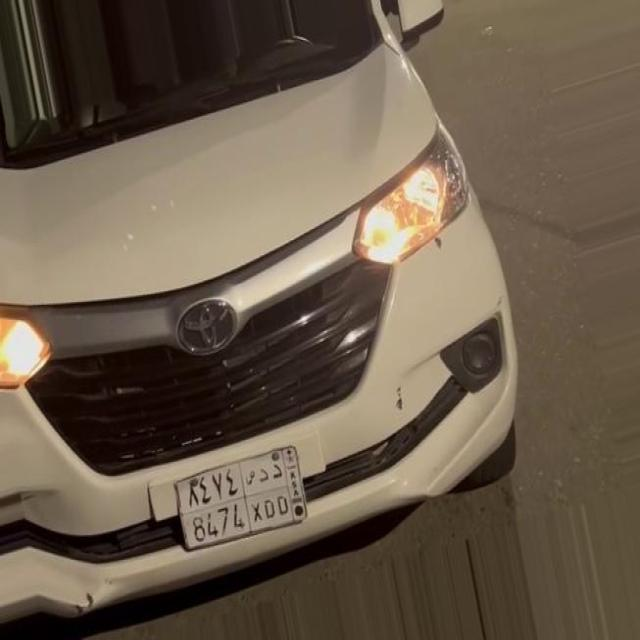Car-plate: (161, 422, 324, 575)
